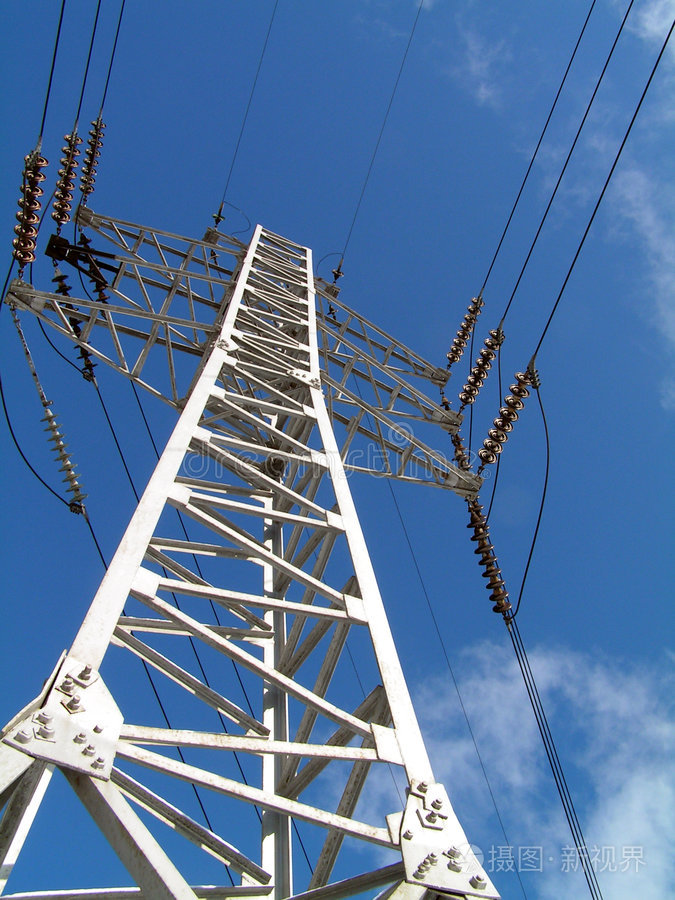insulator: (54, 271, 100, 373), (469, 515, 515, 616), (41, 411, 88, 506), (482, 374, 531, 462), (460, 329, 509, 406), (13, 155, 48, 262), (49, 131, 83, 222), (445, 294, 485, 362), (81, 235, 110, 310), (77, 120, 104, 196)
